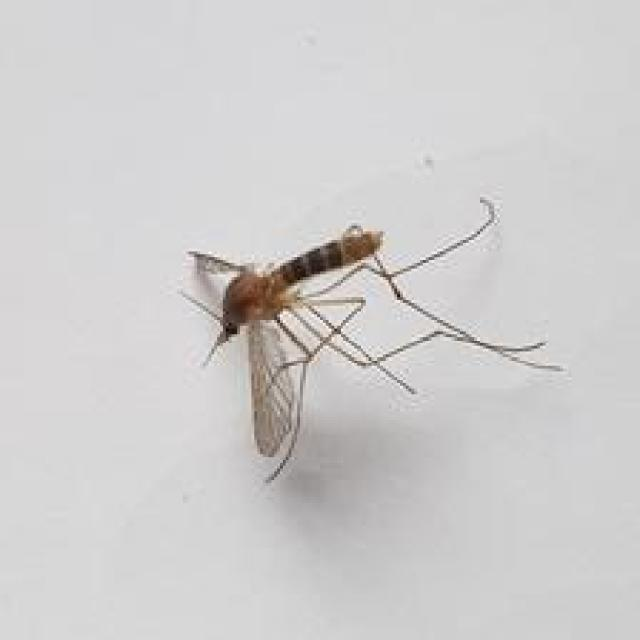Culex: (177, 194, 566, 486)
